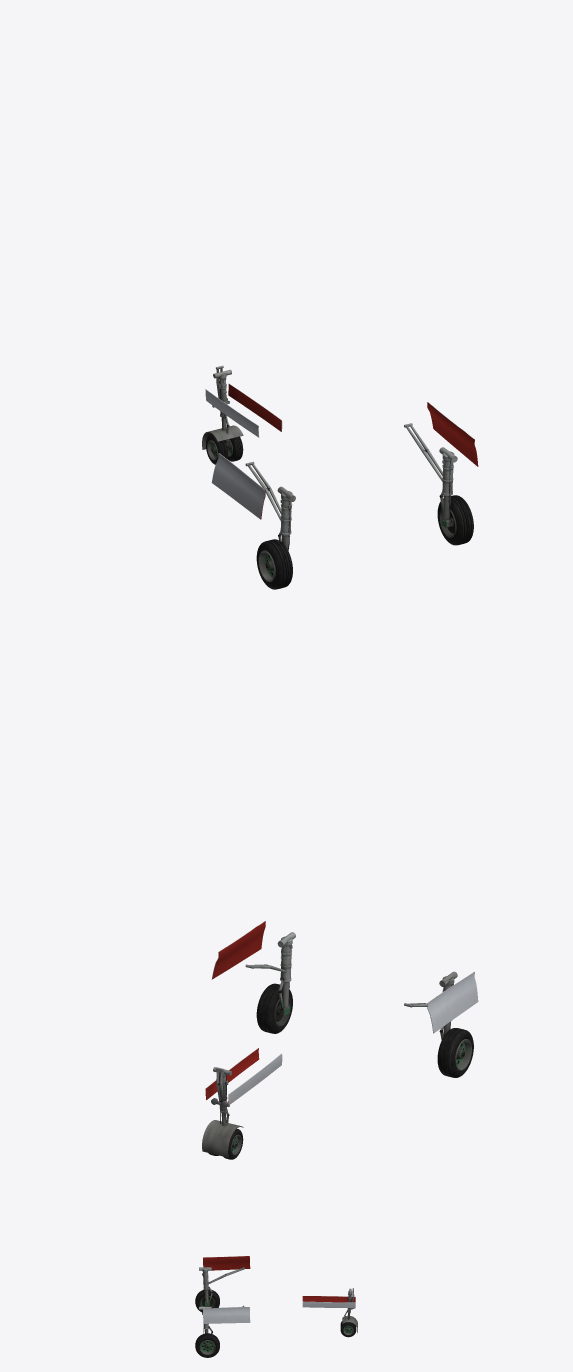
Rendered from e_su35_gear.glb.
The picture shows the model from 3 angles, top to bottom: view 1: azimuth 30°, elevation 25°; view 2: azimuth 150°, elevation 25°; view 3: azimuth 270°, elevation 25°; orthographic projection. The views are drawn at different scales.
Visible parts, largest first — view 1: body|S35_paint; view 2: body|S35_paint; view 3: body|S35_paint.
Part boxes in pixels (x1,y1,x2,y2): body|S35_paint: (202, 365, 478, 589); body|S35_paint: (202, 921, 478, 1159); body|S35_paint: (195, 1256, 357, 1357).
Size of the model in its own units: 5.33 by 6.73 by 22.65.
2 materials, 1 textured.
